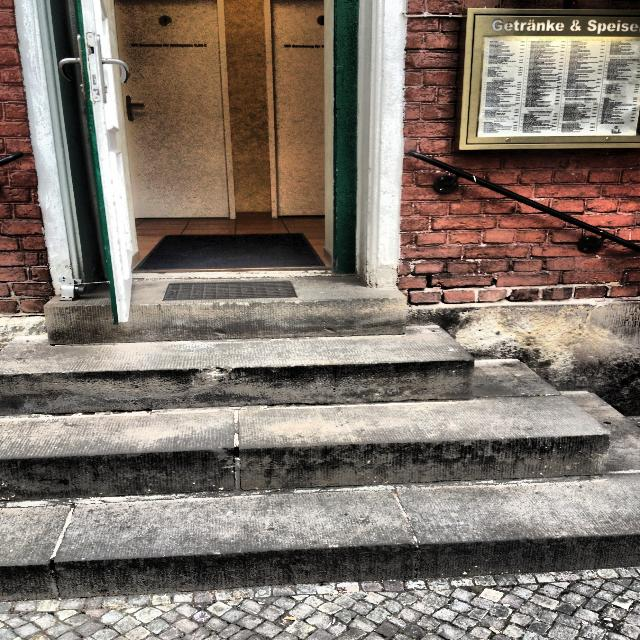escada: (2, 296, 639, 604)
